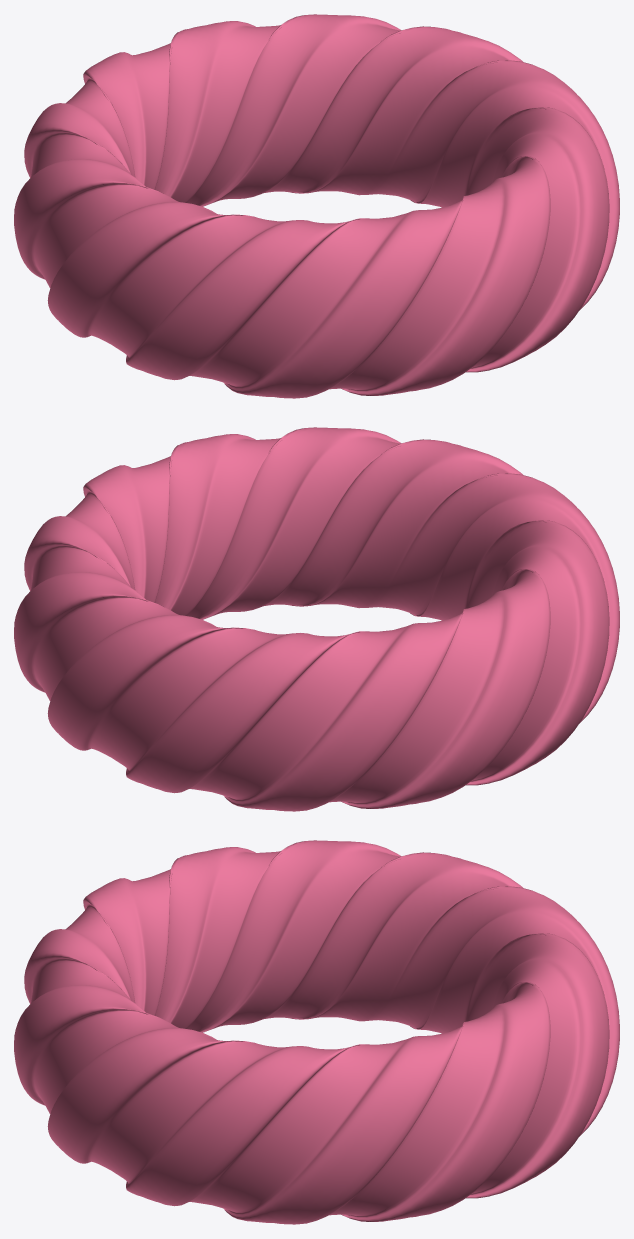
Rendered from GlobDonut.glb.
The picture shows the model from 3 angles, top to bottom: view 1: azimuth 30°, elevation 25°; view 2: azimuth 150°, elevation 25°; view 3: azimuth 270°, elevation 25°; orthographic projection.
Parts seen in each view (by area): view 1: Torus.001; view 2: Torus.001; view 3: Torus.001.
Part boxes in pixels (bbox=[...]): Torus.001: bbox=[14, 14, 619, 398]; Torus.001: bbox=[14, 427, 619, 811]; Torus.001: bbox=[14, 840, 619, 1224].
Size of the model in its own units: 1.58 by 0.491 by 1.58.
